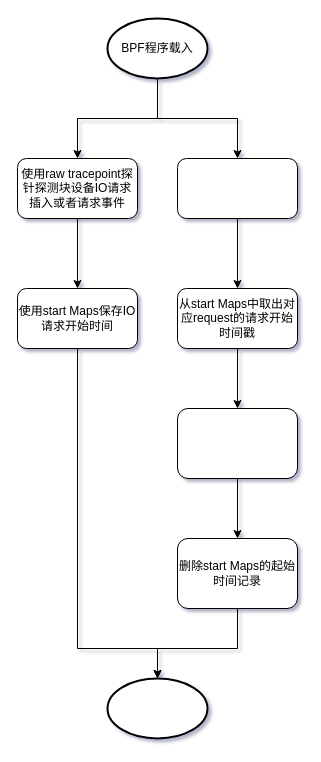
This 321x762 diagram has some shape labels left out. The shapes that lost their labels are listed below. From the top down, each one's centre as x and y in pixels, then its label:
At (x=237, y=188): "使用raw tracepoint探针探测块设备IO请求完成事件".
At (x=237, y=443): "计算时差，统计IO响应时间的直方图数据，原子增加histp Maps中对应slots的计数".
At (x=157, y=708): "流程结束，等待下次事件发生".
